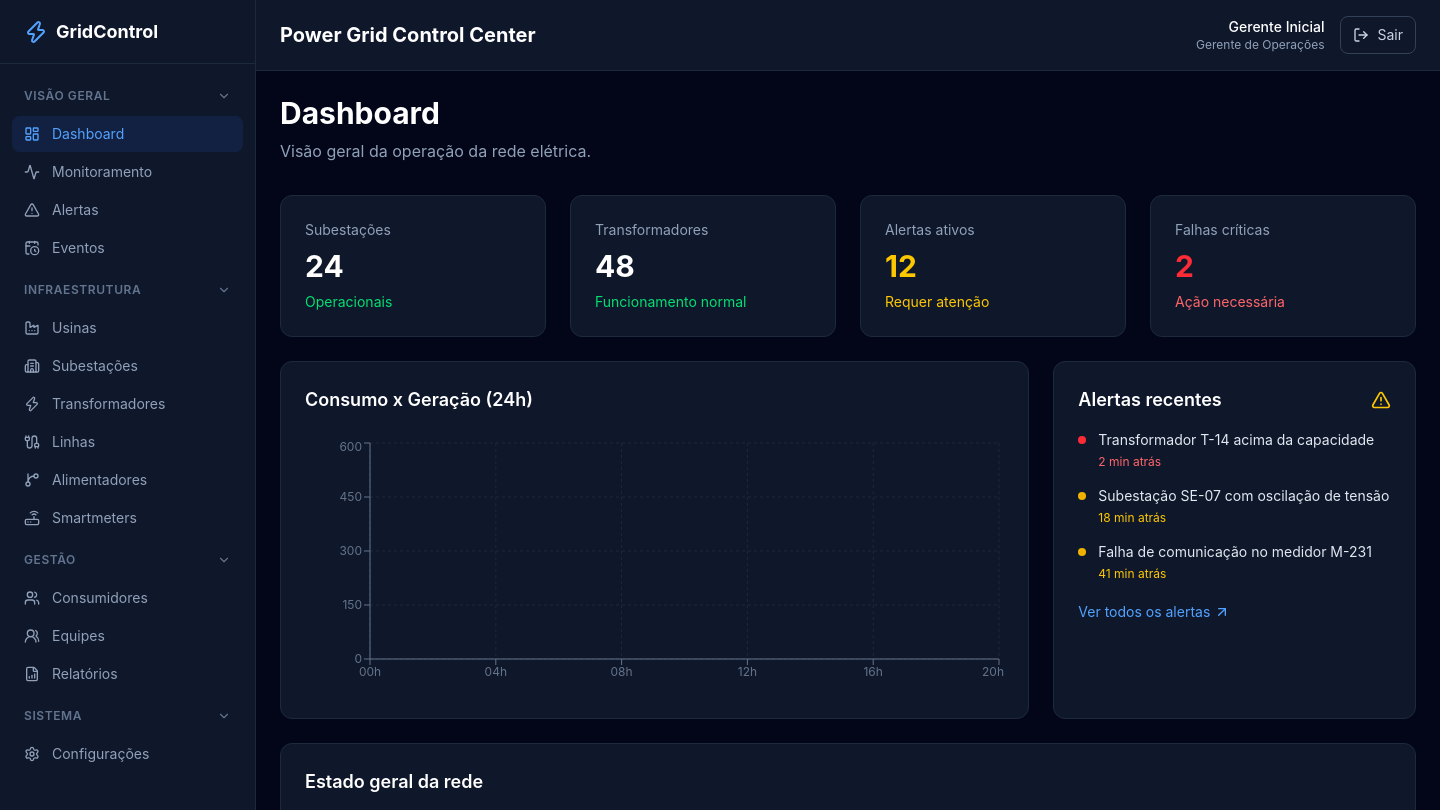
Test: US25 › volta ao login depois de sair
The image size is (1440, 810).
Click the button "Sair".
click(1378, 35)  # box top-left (1340, 16), bottom-right (1416, 54)
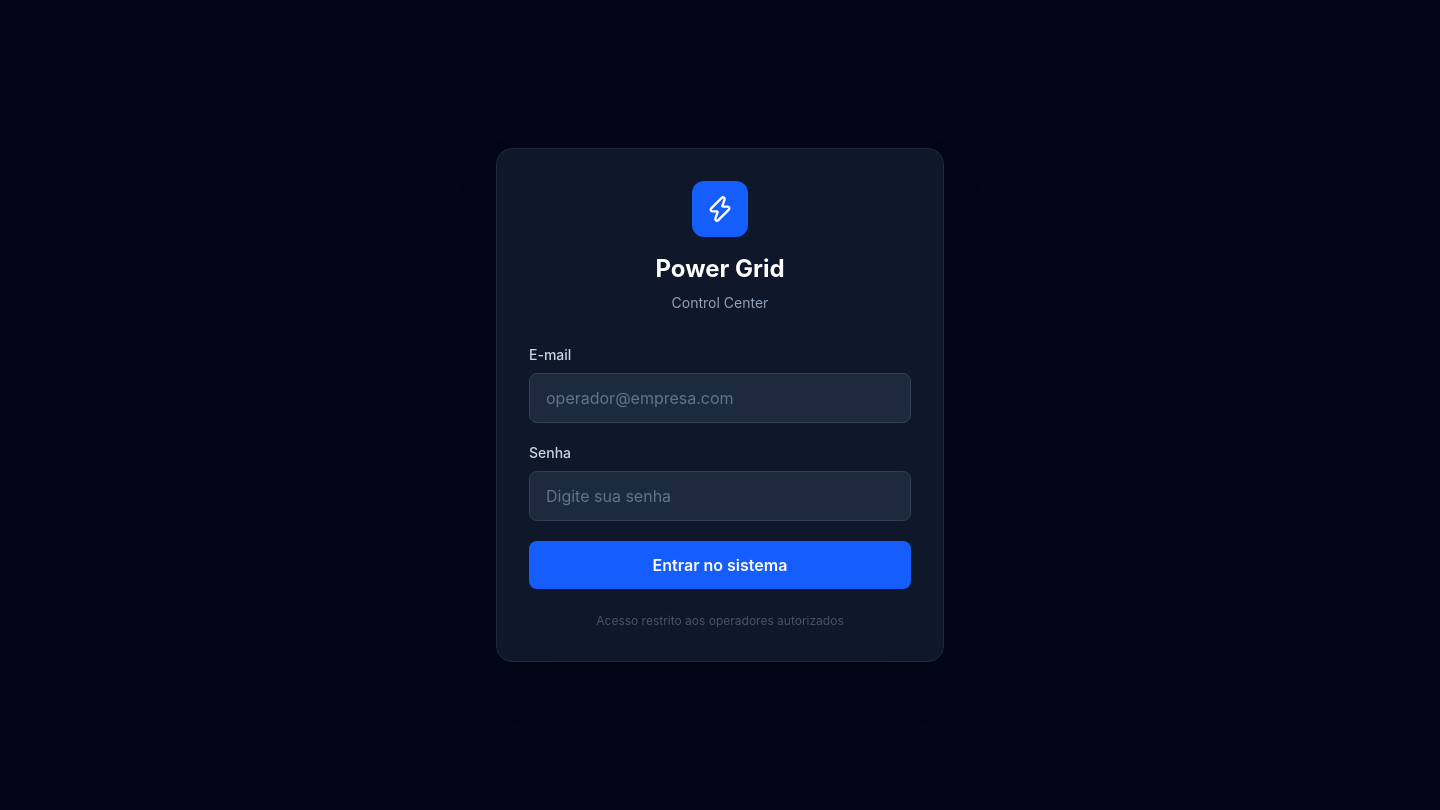
Expected: the button "Entrar no sistema" is shown, top-left (529, 541), bottom-right (911, 589)
